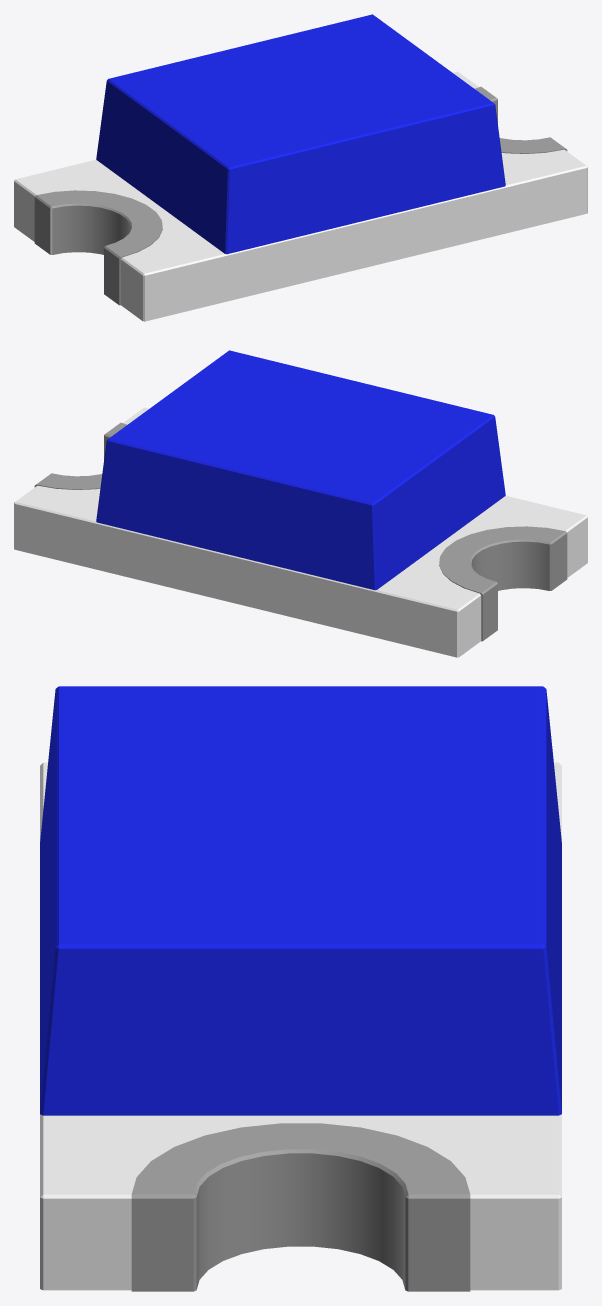
Rendered from LED1206-BLUE.glb.
3 renders of one model, top to bottom at view 1: azimuth 30°, elevation 25°; view 2: azimuth 150°, elevation 25°; view 3: azimuth 270°, elevation 25°, orthographic. The views are drawn at different scales.
Parts seen in each view (by area): view 1: LED_1206_Blue; view 2: LED_1206_Blue; view 3: LED_1206_Blue.
Boxes of the visible parts, bbox=[...] form: LED_1206_Blue: bbox=[14, 14, 587, 321]; LED_1206_Blue: bbox=[14, 350, 587, 657]; LED_1206_Blue: bbox=[40, 686, 561, 1291].
Size of the model in its own units: 0.00327 by 0.0009 by 0.00165.
